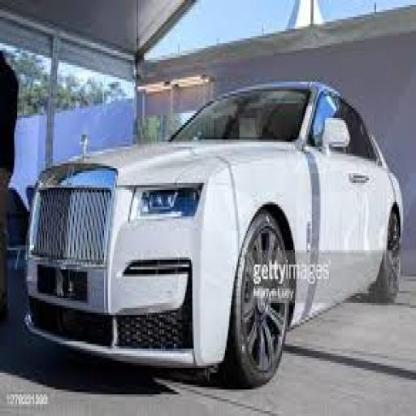car: (23, 71, 408, 392)
